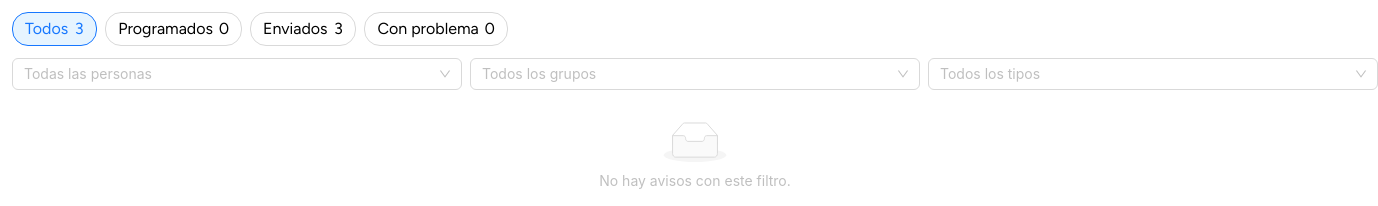
Test: ProgramAlertsTab › shows the filter empty state with the problem-specific copy
The width and height of the screenshot is (1378, 206).
Click the tab with test id "alerts-status-problem".
click(436, 29)  # box [364,12,508,46]
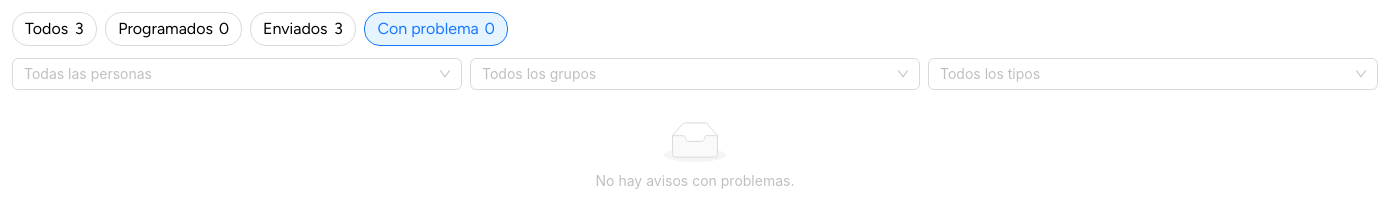
Check: the element with test id "alerts-filter-empty" reads "No hay avisos con problemas.", box [596,172,794,189]
